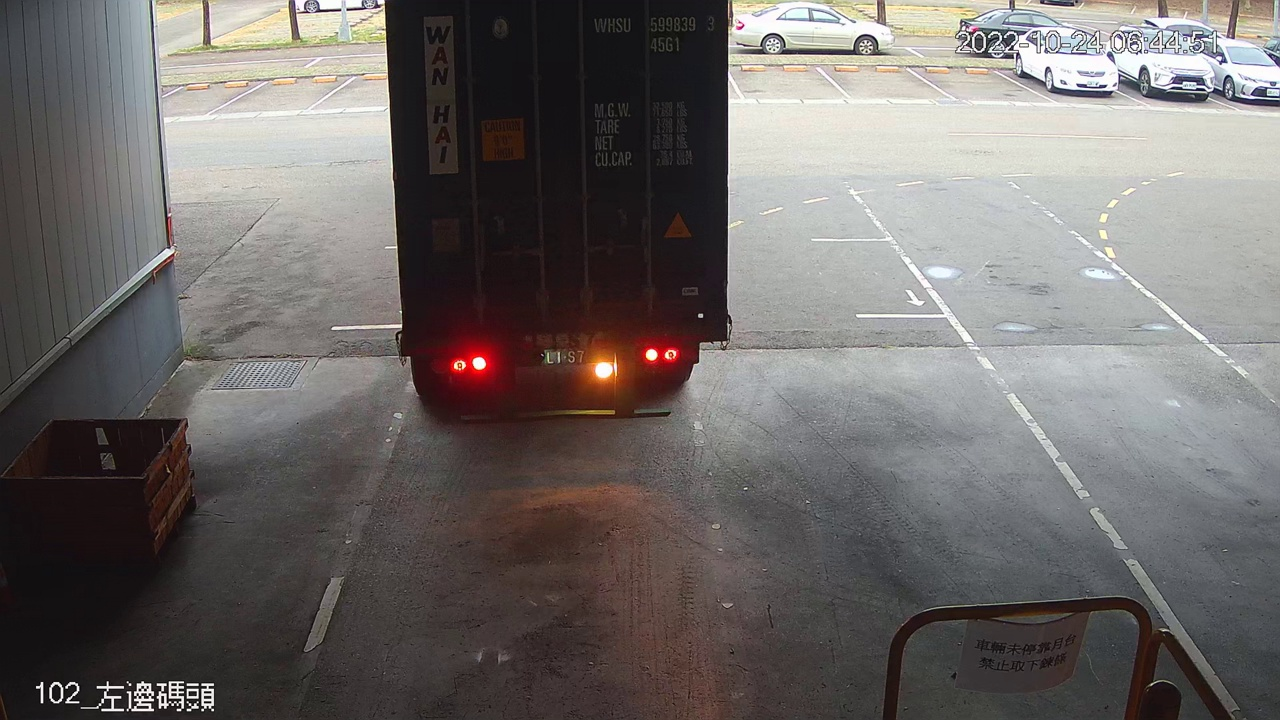container: (590, 10, 721, 60)
